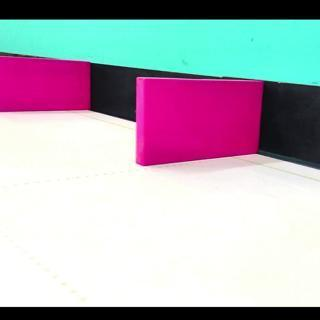xparking: (144, 81, 263, 166), (1, 62, 88, 112)
